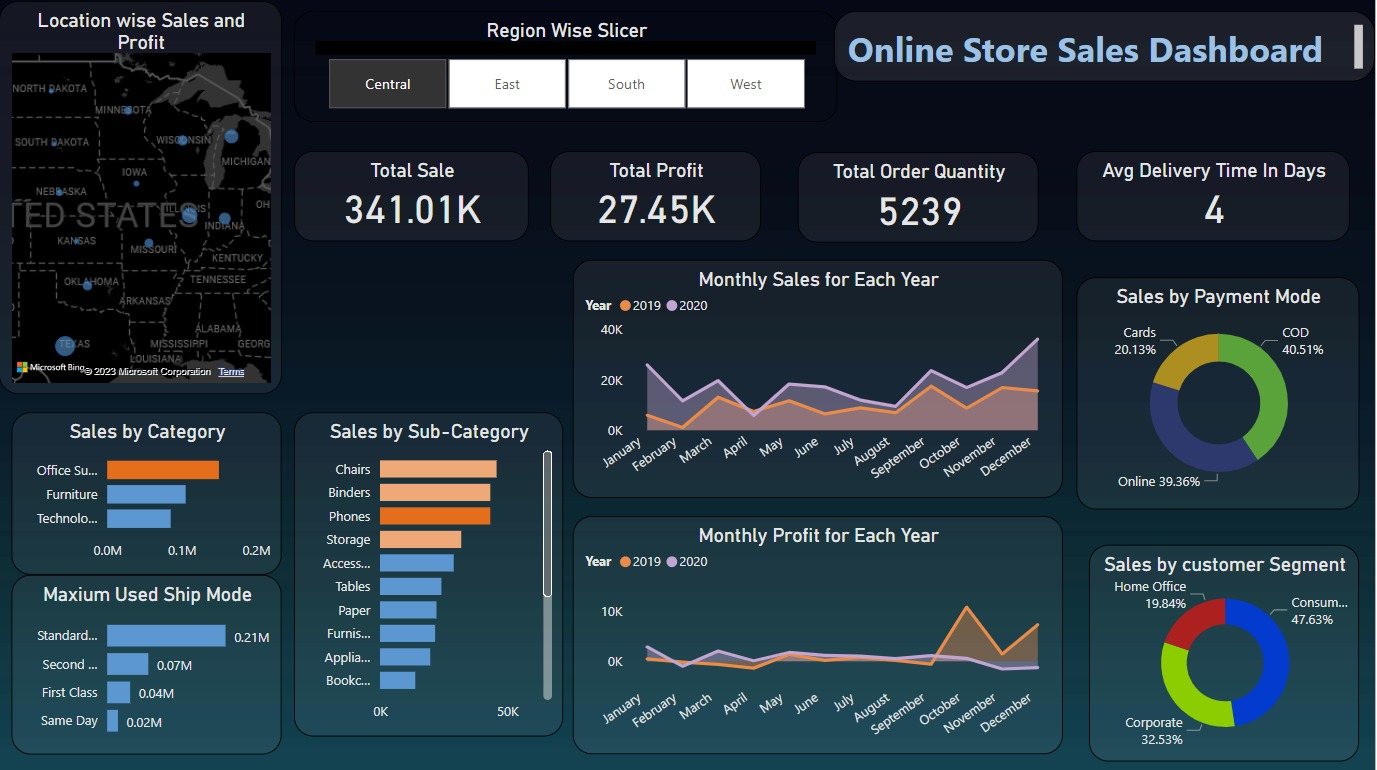

This screenshot's page, from the dashboard's own definition file:
{"tool":"powerbi","page":{"name":"main","canvas":[1280,720],"ordinal":0},"visuals":[{"type":"barChart","title":" Sales by Category","fields":{"Category":["SuperStore_Sales_Dataset.Category"],"Y":["Sum(SuperStore_Sales_Dataset.Sales)"]},"box":[11.4,387.1,251.4,151.4],"z":0},{"type":"barChart","title":" Sales by Sub-Category","fields":{"Category":["SuperStore_Sales_Dataset.Sub-Category"],"Y":["Sum(SuperStore_Sales_Dataset.Sales)"]},"box":[274.3,387.1,250,301.4],"z":1000},{"type":"clusteredBarChart","title":"Maxium Used Ship Mode","fields":{"Category":["SuperStore_Sales_Dataset.Ship Mode"],"Y":["Sum(SuperStore_Sales_Dataset.Sales)"]},"box":[11.4,538.6,251.4,167.1],"z":2000},{"type":"areaChart","title":"Monthly Sales for Each Year","fields":{"Y":["Sum(SuperStore_Sales_Dataset.Sales)"],"Category":["SuperStore_Sales_Dataset.Order Date.Variation.Date Hierarchy.Month"],"Series":["SuperStore_Sales_Dataset.Order Date.Variation.Date Hierarchy.Year"]},"box":[534.3,245.7,455.7,221.4],"z":3000},{"type":"areaChart","title":"Monthly Profit for Each Year","fields":{"Category":["SuperStore_Sales_Dataset.Order Date.Variation.Date Hierarchy.Month"],"Series":["SuperStore_Sales_Dataset.Order Date.Variation.Date Hierarchy.Year"],"Y":["Sum(SuperStore_Sales_Dataset.Profit)"]},"box":[534.3,484.3,455.7,221.4],"z":4000},{"type":"map","title":"Location wise Sales and Profit","fields":{"Category":["SuperStore_Sales_Dataset.State"],"Size":["Sum(SuperStore_Sales_Dataset.Sales)"]},"box":[0,4.3,262.9,365.7],"z":5000},{"type":"donutChart","title":"Sales by customer Segment","fields":{"Y":["Sum(SuperStore_Sales_Dataset.Sales)"],"Category":["SuperStore_Sales_Dataset.Segment"]},"box":[1014.3,510,251.4,201.4],"z":6000},{"type":"donutChart","title":"Sales by  Payment Mode","fields":{"Category":["SuperStore_Sales_Dataset.Payment Mode"],"Y":["Sum(SuperStore_Sales_Dataset.Sales)"]},"box":[1002.9,261.4,262.9,215.7],"z":7000},{"type":"card","title":"Total Sale","fields":{"Values":["Sum(SuperStore_Sales_Dataset.Sales)"]},"box":[274.3,144.3,218.6,84.3],"z":8000},{"type":"card","title":"Total Profit","fields":{"Values":["Sum(SuperStore_Sales_Dataset.Profit)"]},"box":[512.9,144.3,195.7,84.3],"z":9000},{"type":"card","title":"Total Order Quantity","fields":{"Values":["Sum(SuperStore_Sales_Dataset.Quantity)"]},"box":[742.9,145.7,224.3,84.3],"z":10000},{"type":"card","title":"Avg Delivery Time In Days","fields":{"Values":["Avg(SuperStore_Sales_Dataset.AvgDelivery)"]},"box":[1002.9,144.3,254.3,84.3],"z":11000},{"type":"slicer","title":"Region Wise Slicer","fields":{"Values":["SuperStore_Sales_Dataset.Region"]},"box":[274.3,14.3,505.7,102.9],"z":12000},{"type":"textbox","box":[777.1,14.3,502.9,65.7],"z":13000}]}

Visuals, with their boxes in screenshot pixels (x1, y1, x2, y2), scaled from the page's 1280x720 canvas onto the 1377x770 screenshot:
" Sales by Category" barChart: {"x1": 12, "y1": 414, "x2": 283, "y2": 576}
" Sales by Sub-Category" barChart: {"x1": 295, "y1": 414, "x2": 564, "y2": 736}
"Maxium Used Ship Mode" clusteredBarChart: {"x1": 12, "y1": 576, "x2": 283, "y2": 755}
"Monthly Sales for Each Year" areaChart: {"x1": 575, "y1": 263, "x2": 1065, "y2": 500}
"Monthly Profit for Each Year" areaChart: {"x1": 575, "y1": 518, "x2": 1065, "y2": 755}
"Location wise Sales and Profit" map: {"x1": 0, "y1": 5, "x2": 283, "y2": 396}
"Sales by customer Segment" donutChart: {"x1": 1091, "y1": 545, "x2": 1362, "y2": 761}
"Sales by  Payment Mode" donutChart: {"x1": 1079, "y1": 280, "x2": 1362, "y2": 510}
"Total Sale" card: {"x1": 295, "y1": 154, "x2": 530, "y2": 244}
"Total Profit" card: {"x1": 552, "y1": 154, "x2": 762, "y2": 244}
"Total Order Quantity" card: {"x1": 799, "y1": 156, "x2": 1040, "y2": 246}
"Avg Delivery Time In Days" card: {"x1": 1079, "y1": 154, "x2": 1352, "y2": 244}
"Region Wise Slicer" slicer: {"x1": 295, "y1": 15, "x2": 839, "y2": 125}
textbox: {"x1": 836, "y1": 15, "x2": 1376, "y2": 86}
